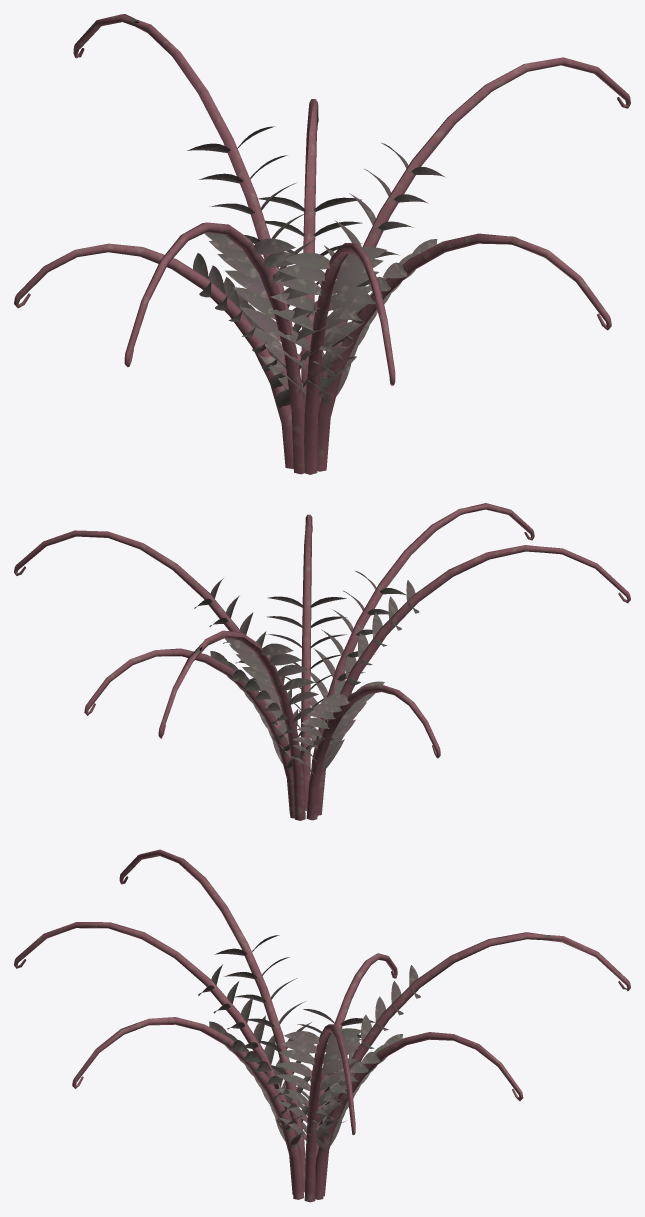
The model's file is SM_Flora_TentacleFern.fbx.
3 views of the same model, one above another, from view 1: azimuth 30°, elevation 25°; view 2: azimuth 150°, elevation 25°; view 3: azimuth 270°, elevation 25° (orthographic). The views are drawn at different scales.
Visible parts, largest first — view 1: SM_Flora_TentacleFern; view 2: SM_Flora_TentacleFern; view 3: SM_Flora_TentacleFern.
Boxes of the visible parts, x1=… form: SM_Flora_TentacleFern: x1=14, y1=14, x2=630, y2=474; SM_Flora_TentacleFern: x1=14, y1=503, x2=630, y2=820; SM_Flora_TentacleFern: x1=14, y1=849, x2=630, y2=1202.
Bounding box in the file's own units: 104 × 111 × 51.65.
